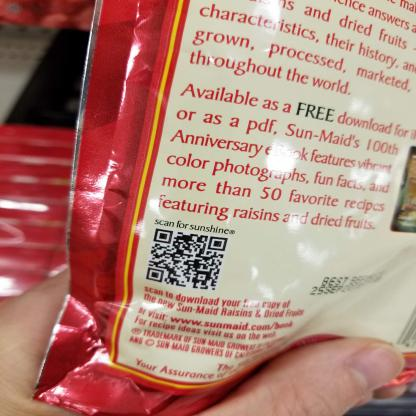barcode: (394, 296, 416, 351)
qr: (143, 224, 231, 295)
